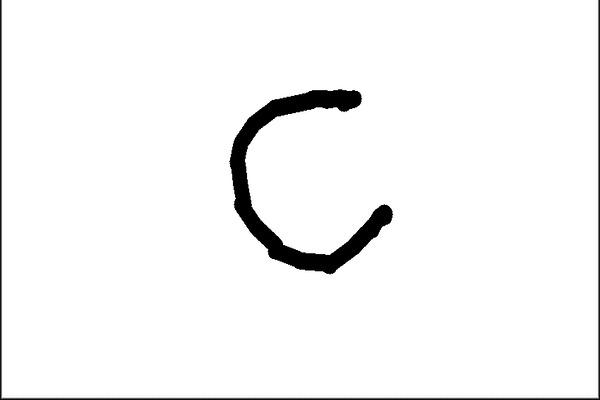C: (222, 83, 396, 277)
